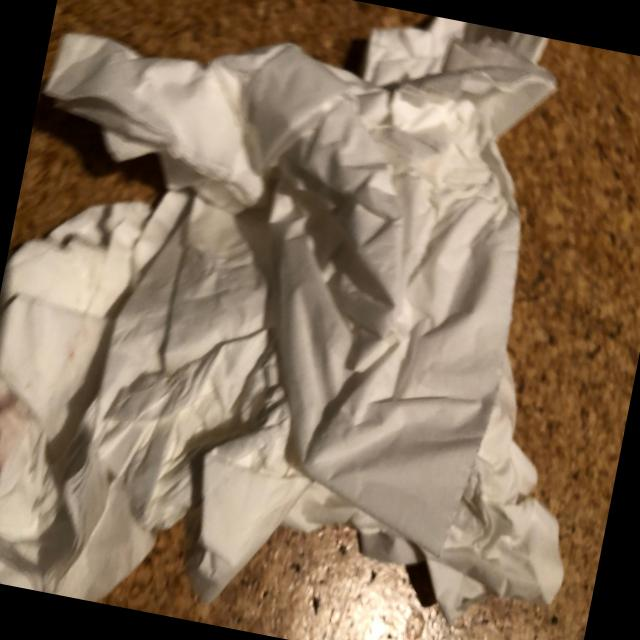organic waste: (0, 0, 566, 564), (183, 0, 640, 640), (0, 170, 257, 618)
